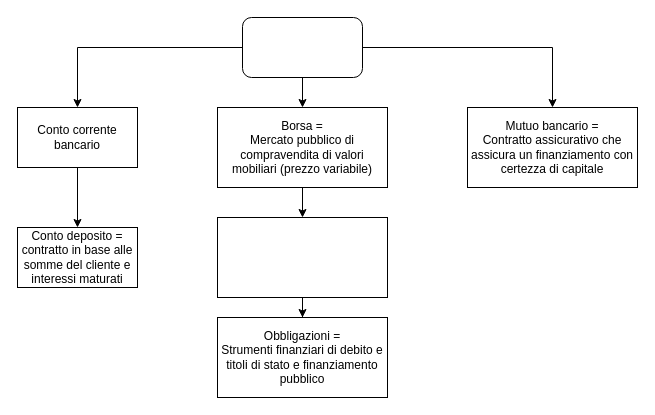
This 655x415 diagram has some shape labels left out. The centre of each missing label's shape, as x and y in pixels:
Azioni = Titoli emessi da società come "spa" e "saga": [302,257]
Educazione finanziaria: [302,47]
